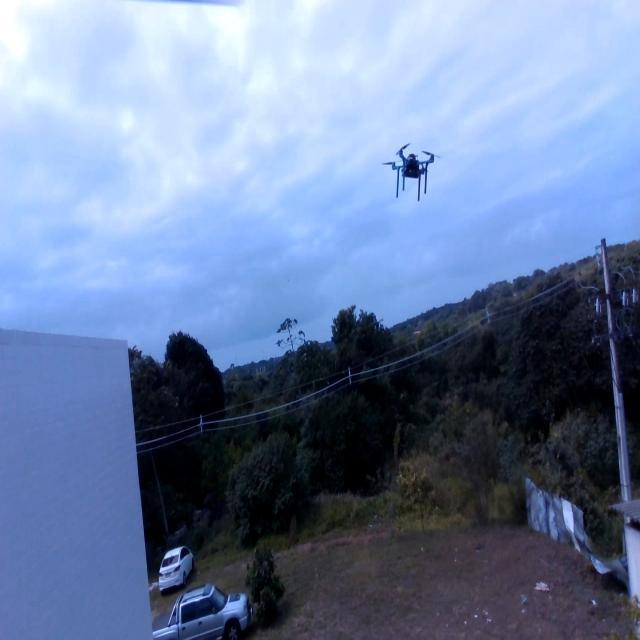-uav-: (382, 123, 442, 219)
